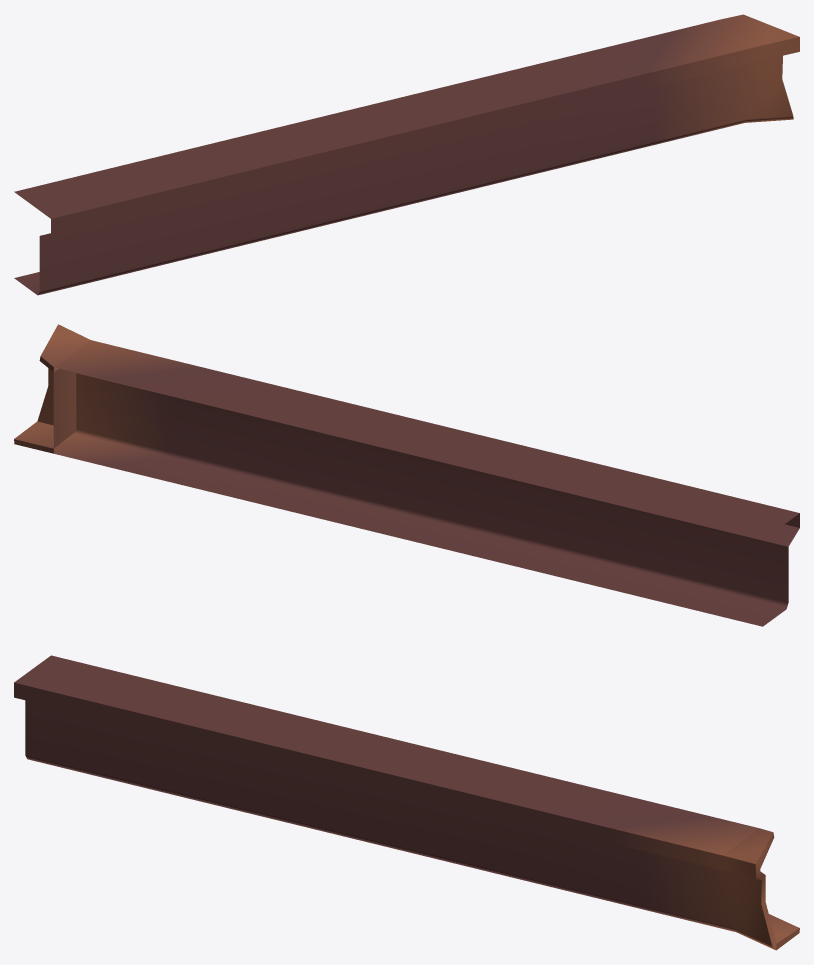
File: DBK_Trim_C_End.fbx
The picture shows the model from 3 angles, top to bottom: view 1: azimuth 30°, elevation 25°; view 2: azimuth 150°, elevation 25°; view 3: azimuth 330°, elevation 25°; orthographic projection.
Visible parts, largest first — view 1: DBK_Trim_C_End; view 2: DBK_Trim_C_End; view 3: DBK_Trim_C_End.
Part boxes in pixels (bbox=[...]): DBK_Trim_C_End: bbox=[14, 14, 799, 295]; DBK_Trim_C_End: bbox=[14, 324, 799, 626]; DBK_Trim_C_End: bbox=[14, 655, 799, 950].
Bounding box in the file's own units: 142 × 16.98 × 13.53.
